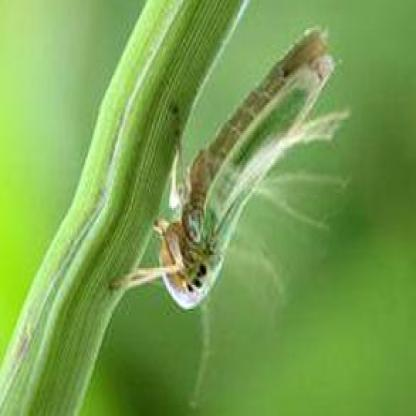green-leafhopper: (152, 30, 326, 306)
